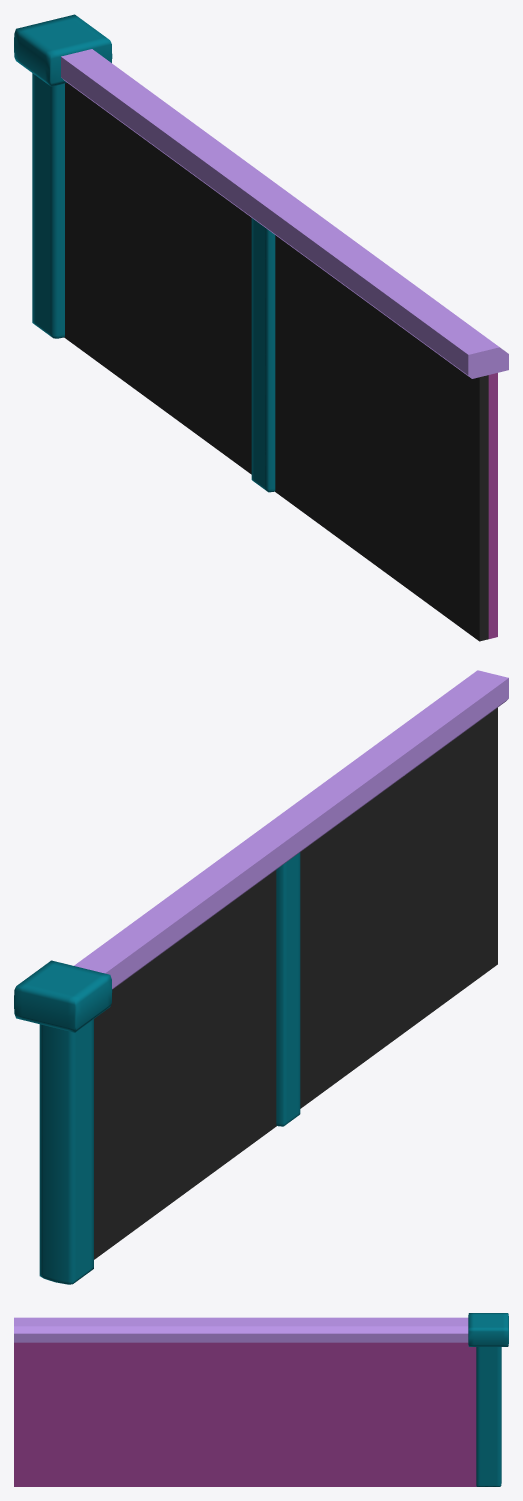
The model's file is Wall.FBX.
3 views of the same model, one above another, from view 1: azimuth 30°, elevation 25°; view 2: azimuth 150°, elevation 25°; view 3: azimuth 270°, elevation 25° (orthographic). The views are drawn at different scales.
Visible parts, largest first — view 1: Wall.int, Roof ornament, Wall.detail, Wall.out; view 2: Wall.int, Wall.detail, Roof ornament; view 3: Wall.out, Roof ornament, Wall.detail.
Boxes of the visible parts, box(x1,y1,x2,y2) form: Wall.int: box(64, 83, 488, 641); Roof ornament: box(61, 49, 508, 378); Wall.detail: box(14, 14, 275, 492); Wall.out: box(488, 373, 497, 638); Wall.int: box(94, 707, 497, 1259); Wall.detail: box(14, 852, 300, 1284); Roof ornament: box(74, 670, 508, 989); Wall.out: box(14, 1342, 476, 1486); Roof ornament: box(14, 1317, 468, 1342); Wall.detail: box(468, 1313, 508, 1486).
Bounding box in the file's own units: 66.48 × 299 × 821.
